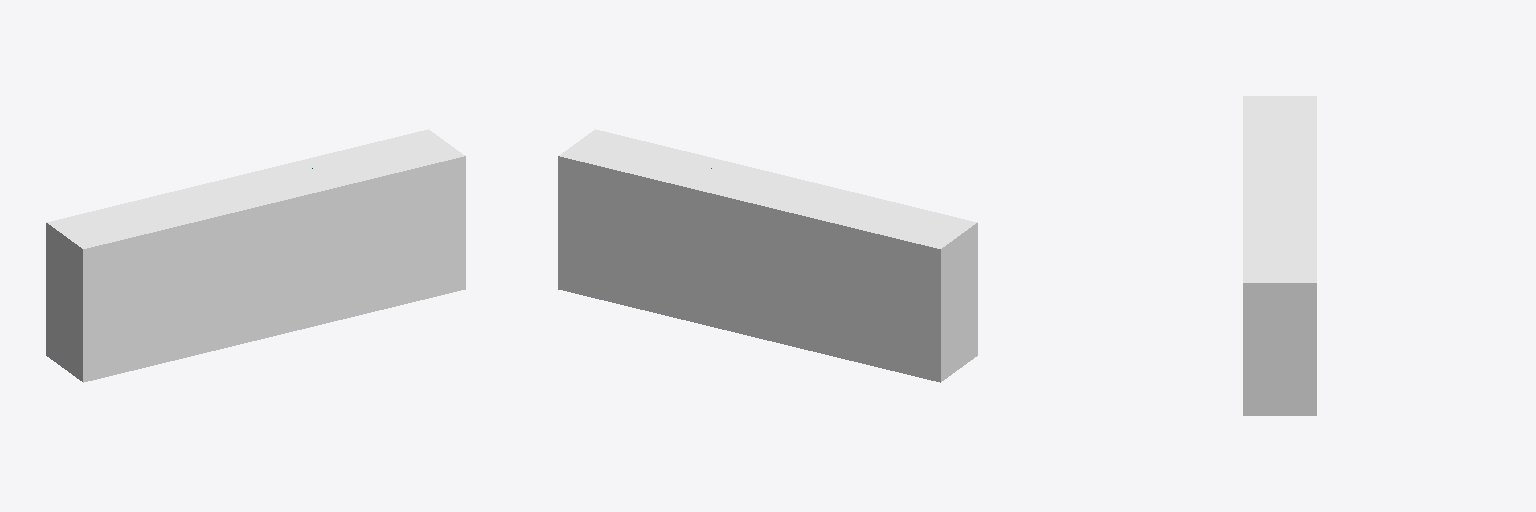
File: kvader.obj
3 views of the same model, side by side, from view 1: azimuth 30°, elevation 25°; view 2: azimuth 150°, elevation 25°; view 3: azimuth 270°, elevation 25° (orthographic).
Parts seen in each view (by area): view 1: Object.1, Object.3, Object.2; view 2: Object.1, Object.3, Object.2; view 3: Object.3, Object.1, Object.2.
Boxes of the visible parts, x1=… form: Object.1: x1=46, y1=192, x2=210, y2=382; Object.3: x1=302, y1=129, x2=465, y2=319; Object.2: x1=174, y1=160, x2=337, y2=350; Object.1: x1=813, y1=192, x2=977, y2=382; Object.3: x1=558, y1=129, x2=721, y2=319; Object.2: x1=686, y1=160, x2=849, y2=350; Object.3: x1=1243, y1=220, x2=1316, y2=415; Object.1: x1=1243, y1=96, x2=1316, y2=157; Object.2: x1=1243, y1=158, x2=1316, y2=219.
Size of the model in its own units: 1200 by 400 by 200.